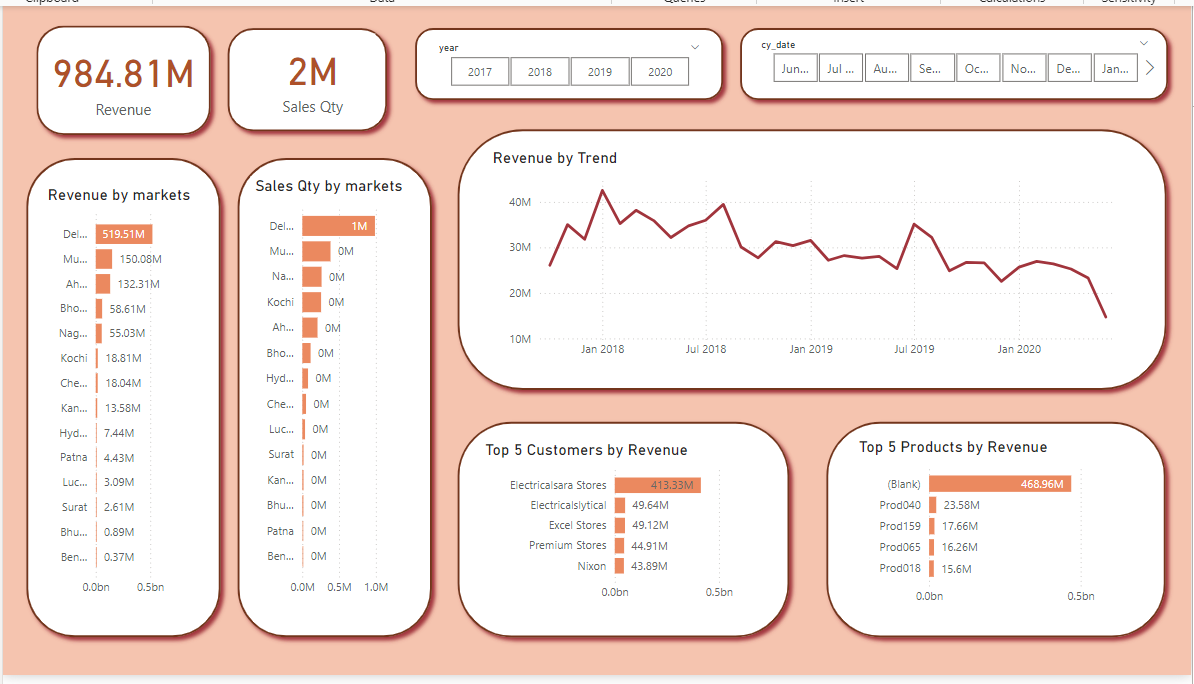

The page's visual inventory and layout, read from the dashboard file:
{"tool":"powerbi","page":{"name":"Page 1","canvas":[1280,720],"ordinal":0},"visuals":[{"type":"shape","box":[878.4,438.5,383.4,250.2],"z":0},{"type":"shape","box":[480.2,438.5,375.3,250.2],"z":1000},{"type":"shape","box":[480.2,123.8,781.5,298.6],"z":2000},{"type":"shape","box":[16.1,154.7,227.3,534],"z":3000},{"type":"shape","box":[26.9,12.1,205.8,135.9],"z":4000},{"type":"shape","box":[232.7,14.8,189.7,129.1],"z":5000},{"type":"shape","box":[243.5,154.7,227.3,534],"z":6000},{"type":"shape","box":[784.2,14.8,478.9,95.5],"z":7000},{"type":"shape","box":[434.5,14.8,349.7,95.5],"z":8000},{"type":"card","fields":{"Values":["Base Measures.Revenue"]},"box":[43,35,173.5,88.8],"z":10000},{"type":"card","fields":{"Values":["Base Measures.Sales Qty"]},"box":[266.3,29.6,134.5,94.2],"z":11000},{"type":"barChart","fields":{"Y":["Base Measures.Revenue"],"Category":["sales markets.markets_name"]},"box":[43,192.4,176.2,461.4],"z":12000},{"type":"slicer","fields":{"Values":["sales date.year"]},"box":[456,33.6,306.7,59.2],"z":13000},{"type":"slicer","fields":{"Values":["sales date.cy_date"]},"box":[803,29.6,442.5,59.2],"z":14000},{"type":"lineChart","fields":{"Y":["Base Measures.Revenue"],"Category":["sales date.cy_date"]},"box":[523,154.1,694.6,244.6],"z":15000},{"type":"barChart","fields":{"Y":["Base Measures.Sales Qty"],"Category":["sales markets.markets_name"]},"box":[266.3,182.9,173.5,470.8],"z":16000},{"type":"barChart","fields":{"Y":["Base Measures.Revenue"],"Category":["sales customers.custmer_name"]},"box":[513.8,466.8,308,192.4],"z":17000},{"type":"barChart","fields":{"Y":["Base Measures.Revenue"],"Category":["sales products.product_code"]},"box":[917.4,464.1,305.3,199.1],"z":18000}]}

Visuals, with their boxes in screenshot pixels (x1, y1, x2, y2):
shape: <bbox>844, 396, 1193, 635</bbox>
shape: <bbox>464, 396, 822, 635</bbox>
shape: <bbox>464, 96, 1193, 381</bbox>
shape: <bbox>22, 126, 238, 635</bbox>
shape: <bbox>32, 0, 228, 119</bbox>
shape: <bbox>228, 0, 409, 115</bbox>
shape: <bbox>238, 126, 455, 635</bbox>
shape: <bbox>754, 0, 1193, 83</bbox>
shape: <bbox>421, 0, 754, 83</bbox>
card - Base Measures.Revenue: <bbox>47, 12, 213, 96</bbox>
card - Base Measures.Sales Qty: <bbox>260, 6, 388, 96</bbox>
barChart - Base Measures.Revenue x sales markets.markets_name: <bbox>47, 162, 215, 602</bbox>
slicer - sales date.year: <bbox>441, 10, 734, 67</bbox>
slicer - sales date.cy_date: <bbox>772, 6, 1193, 63</bbox>
lineChart - Base Measures.Revenue x sales date.cy_date: <bbox>505, 125, 1167, 358</bbox>
barChart - Base Measures.Sales Qty x sales markets.markets_name: <bbox>260, 153, 426, 602</bbox>
barChart - Base Measures.Revenue x sales customers.custmer_name: <bbox>496, 423, 790, 607</bbox>
barChart - Base Measures.Revenue x sales products.product_code: <bbox>881, 421, 1172, 611</bbox>
